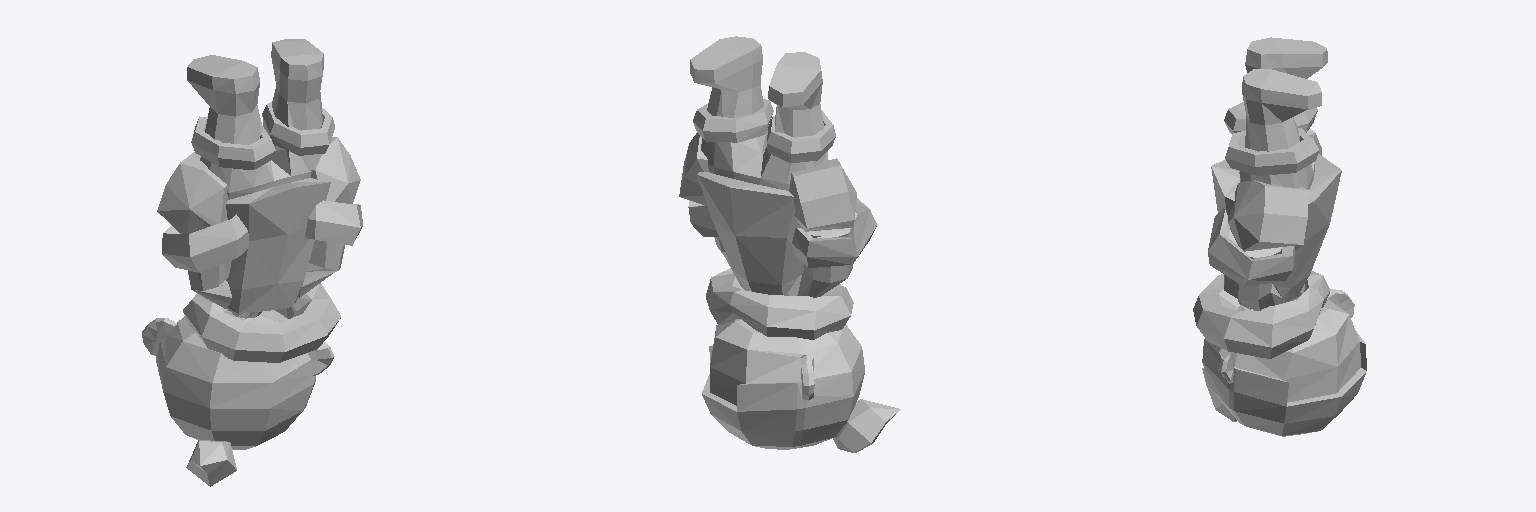
File: eikastanding_000237.obj
3 views of the same model, side by side, from view 1: azimuth 30°, elevation 25°; view 2: azimuth 150°, elevation 25°; view 3: azimuth 270°, elevation 25° (orthographic).
Parts seen in each view (by area): view 1: Cylinder; view 2: Cylinder; view 3: Cylinder.
Part boxes in pixels (x1,y1,x2,y2): Cylinder: (142,39,362,486); Cylinder: (679,36,900,452); Cylinder: (1193,37,1366,436).
Size of the model in its own units: 26.86 by 53.55 by 21.36.